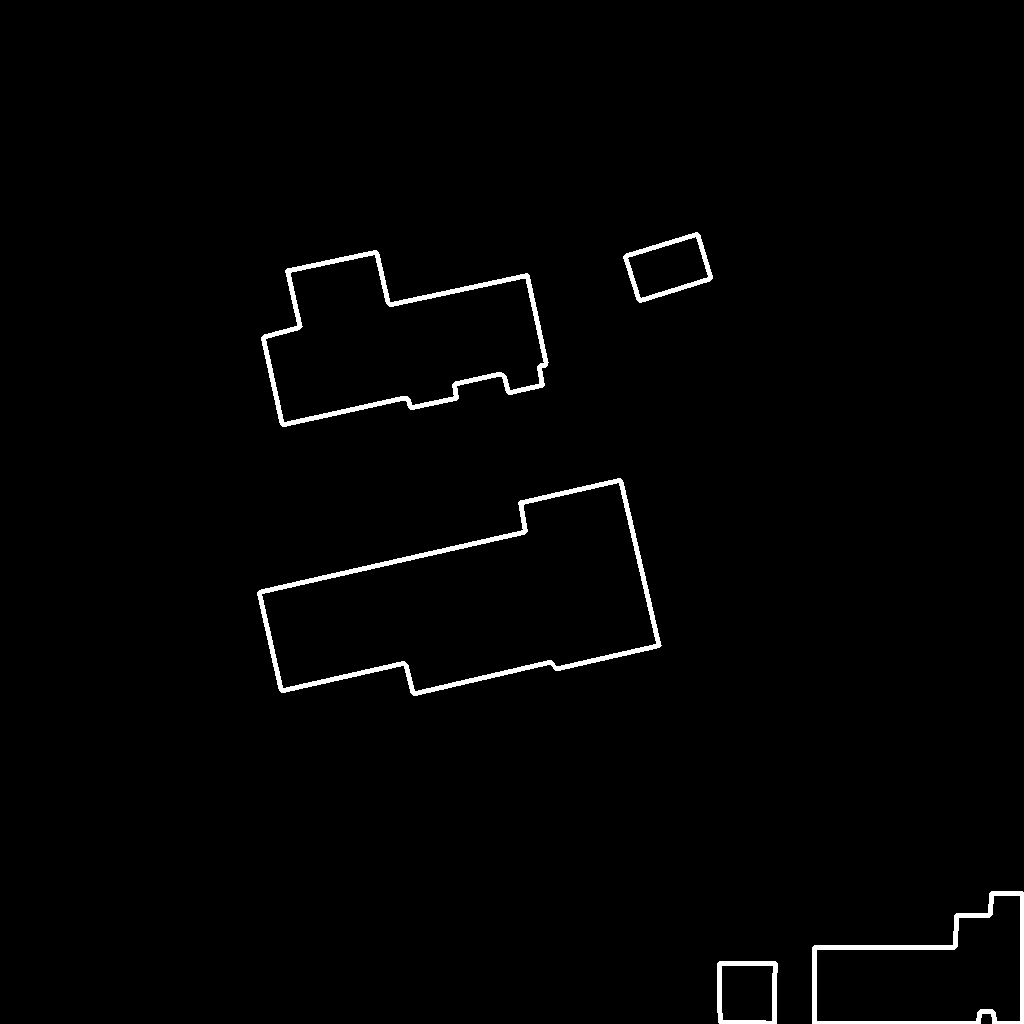building: (259, 480, 660, 695), (263, 252, 547, 426), (719, 893, 1024, 1024), (625, 234, 712, 302)
